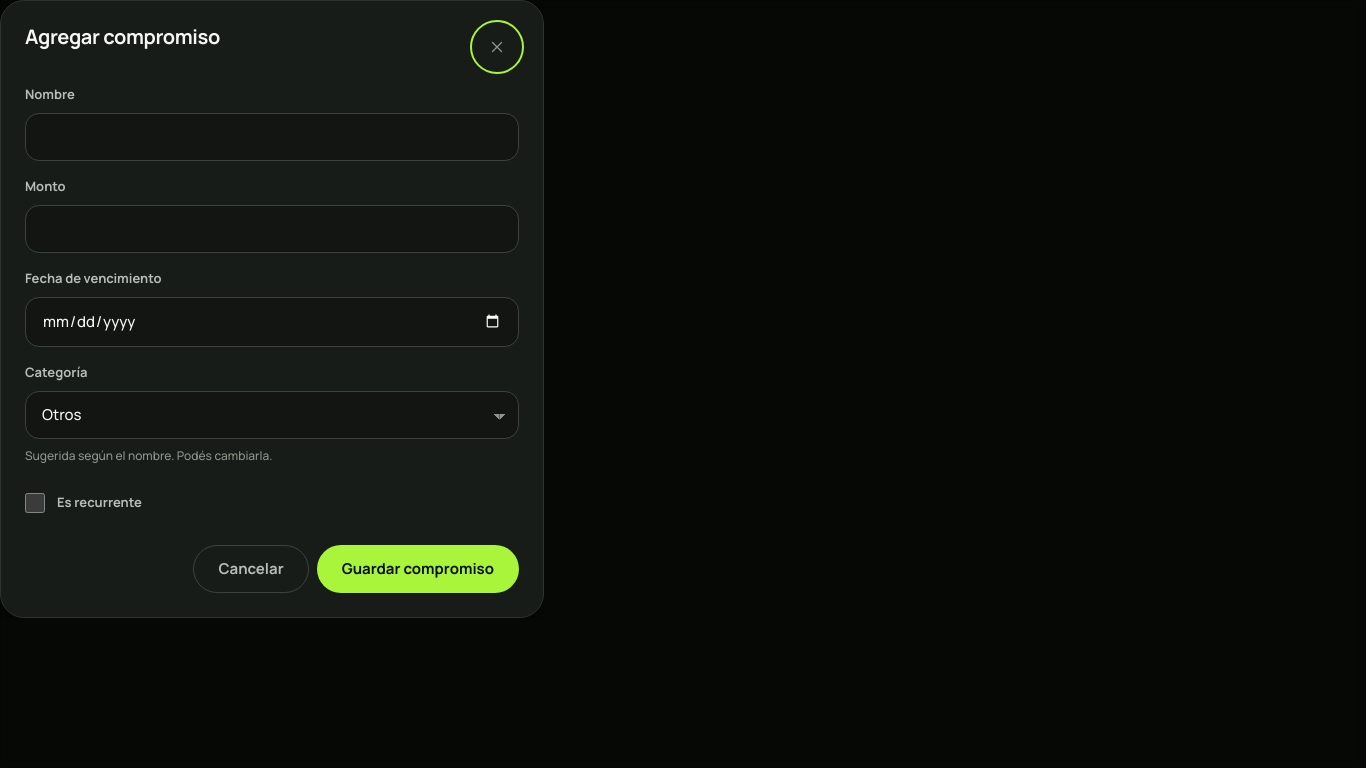
it: CommitmentForm: categoría › propone una categoría a partir del nombre
This screenshot has width=1366, height=768.
In the field labelled "Nombre": (272, 137) [25,112,519,161], type "Internet"
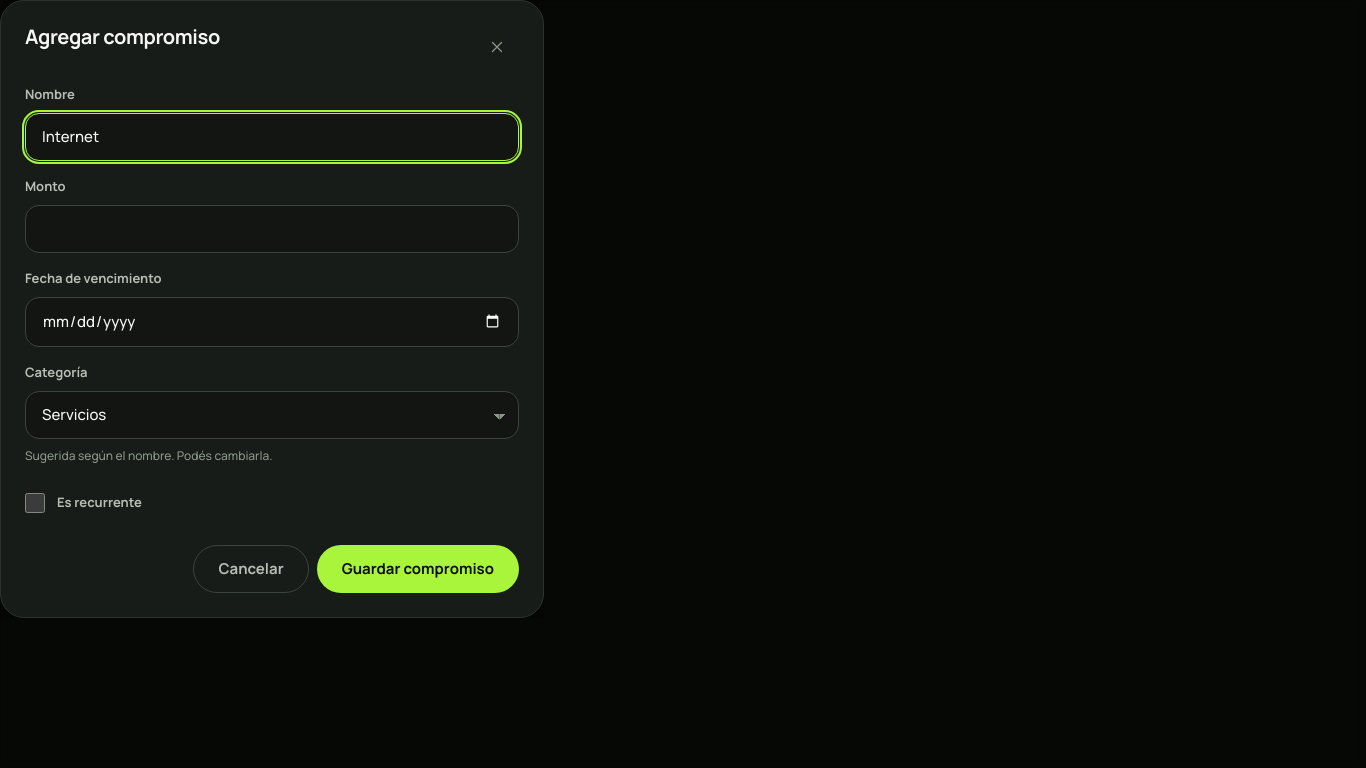
Expected: the text "Sugerida según el nombre. Podés cambiarla." is shown, [25,447,273,464]
Expected: the dropdown labelled "Categoría" shows "Servicios", [25,390,519,439]
